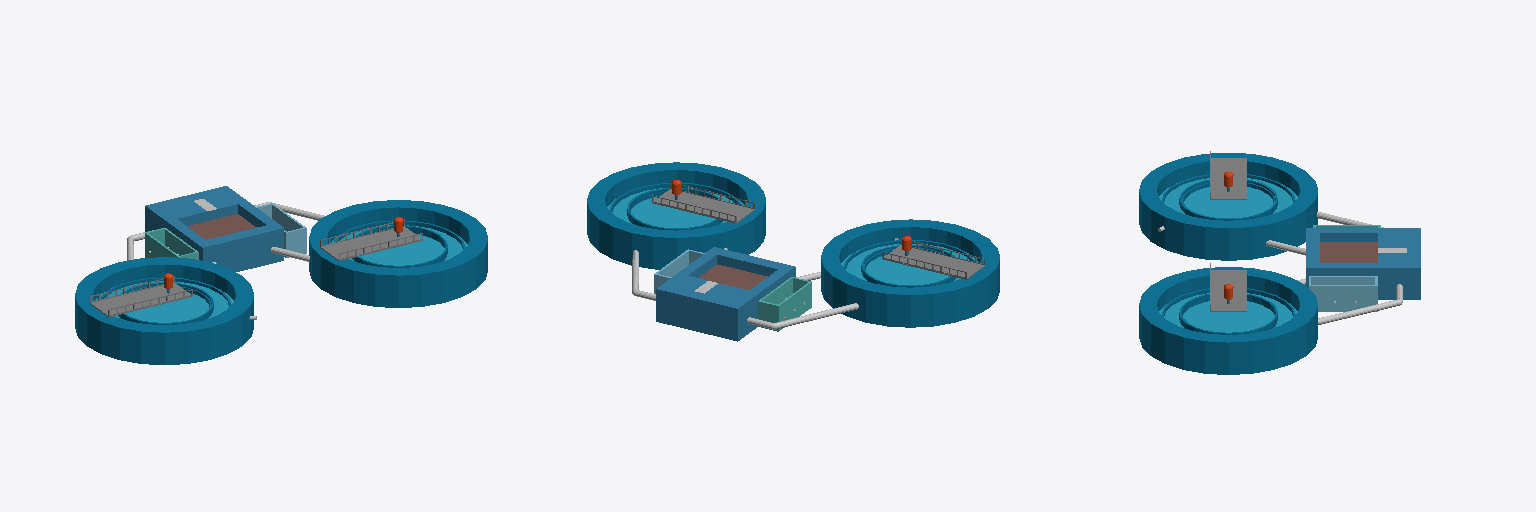
The model's file is two_stage_two_sink.obj.
3 renders of one model, left to right at view 1: azimuth 30°, elevation 25°; view 2: azimuth 150°, elevation 25°; view 3: azimuth 270°, elevation 25°, orthographic.
Visible parts, largest first — view 1: __, __.1, ___, ___.3, ___.2, ___.1, __3.1, __3, __2.1; view 2: __, __.1, ___, ___.3, ___.1, ___.2, __3.1, __3, __2.1, __.20; view 3: __.1, __, ___, ___.2, ___.1, __3.1, __3, __.17.
Boxes of the visible parts, box(x1,y1,x2,y2) form: __: box(75, 257, 256, 364); __.1: box(164, 200, 487, 307); ___: box(90, 186, 422, 316); ___.3: box(90, 226, 403, 302); ___.2: box(90, 203, 393, 296); ___.1: box(187, 214, 256, 239); __3.1: box(352, 225, 447, 267); __3: box(118, 282, 213, 324); __2.1: box(333, 220, 465, 249); __: box(821, 219, 999, 327); __.1: box(587, 162, 911, 300); ___: box(652, 188, 984, 341); ___.3: box(654, 202, 966, 331); ___.1: box(699, 264, 767, 289); ___.2: box(653, 196, 964, 293); __3.1: box(627, 188, 722, 230); __3: box(861, 245, 956, 287); __2.1: box(610, 183, 741, 211); __.20: box(777, 303, 858, 328); __.1: box(1139, 172, 1402, 374); __: box(1139, 153, 1317, 260); ___: box(1210, 158, 1420, 311); ___.2: box(1309, 276, 1377, 311); ___.1: box(1320, 242, 1377, 262); __3.1: box(1179, 294, 1277, 334); __3: box(1179, 179, 1277, 220); __.17: box(1318, 300, 1398, 324).
Bounding box in the file's own units: 10020 × 1391 × 6285.